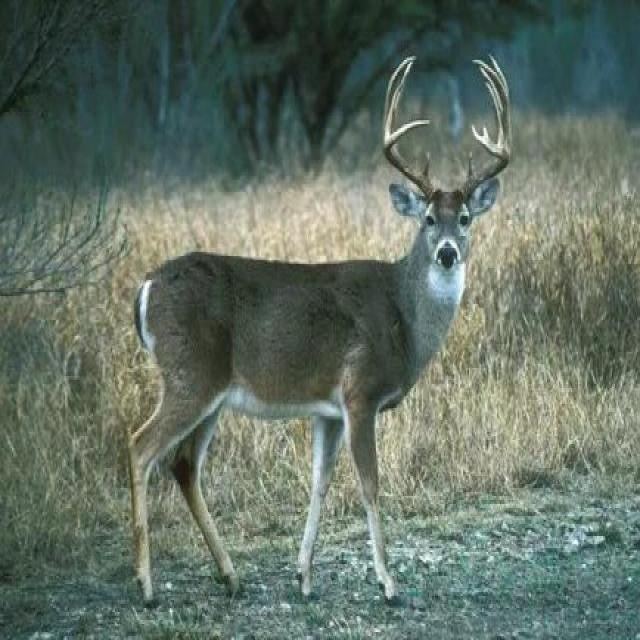deer: (96, 75, 532, 629)
